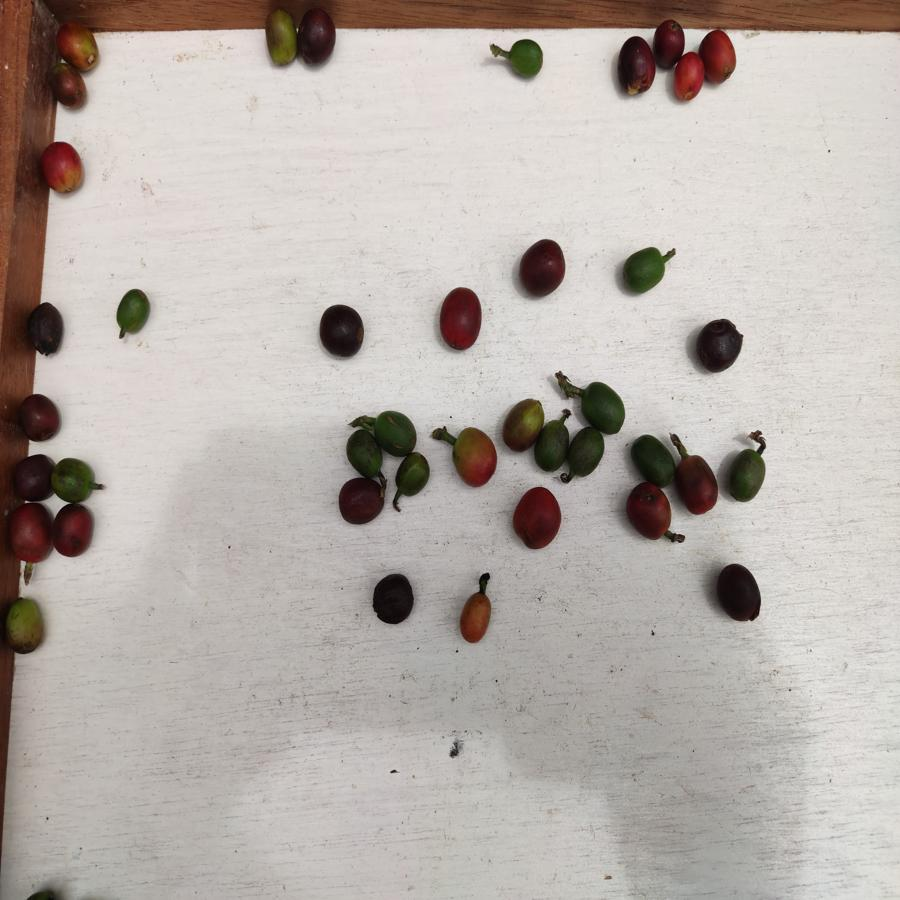Inmaduro: (629, 429, 676, 487), (50, 454, 98, 502), (371, 410, 422, 455), (622, 246, 668, 295), (583, 380, 625, 433), (726, 448, 766, 503), (345, 429, 387, 476), (566, 427, 606, 476), (394, 452, 428, 499), (115, 289, 151, 333), (506, 37, 544, 78)
Maduro: (511, 486, 566, 551), (438, 287, 485, 349), (9, 504, 55, 562), (53, 504, 92, 560), (41, 139, 82, 192), (699, 29, 737, 86), (674, 50, 704, 100)
Pinton: (448, 426, 499, 485), (52, 23, 101, 67), (8, 597, 45, 654), (503, 397, 539, 450), (459, 589, 493, 645), (265, 11, 298, 65)
Sobremaduro: (713, 562, 767, 624), (519, 239, 567, 298), (694, 318, 744, 373), (318, 302, 365, 360), (616, 35, 659, 98), (676, 450, 717, 514), (627, 488, 673, 539), (371, 573, 415, 626), (340, 476, 386, 526), (297, 8, 336, 65), (18, 390, 60, 442), (11, 450, 51, 502), (29, 300, 66, 354), (49, 62, 87, 107), (655, 18, 682, 67)
